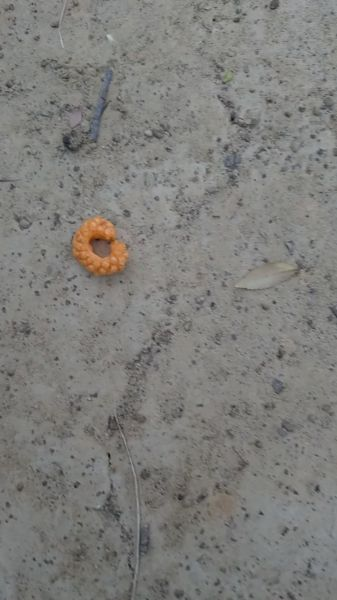eggs: (69, 216, 135, 280)
